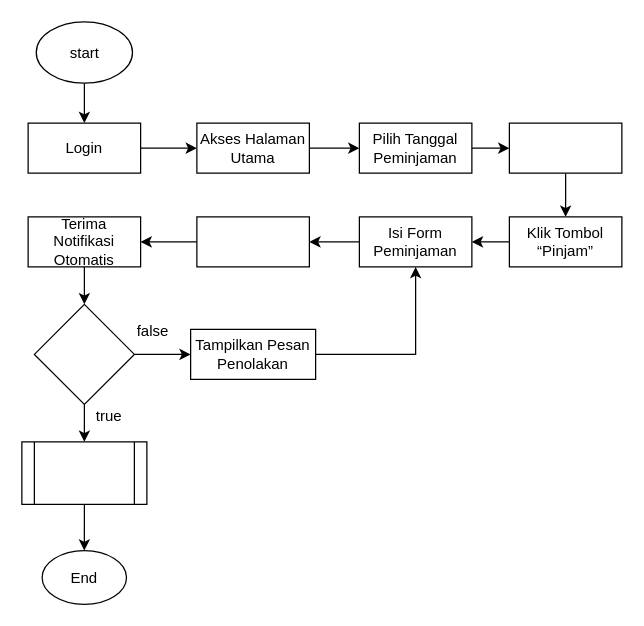
This 644x626 diagram has some shape labels left out. Here are the shapes that lost their labels. From the top down, the box of each, then its label:
(508, 122, 622, 173): Lihat Ruangan Kosong
(196, 216, 309, 267): Lihat Status Pengajuan
(33, 303, 134, 404): Pengajuan Disetujui
(21, 441, 147, 504): Cetak Surat Persetujuan
